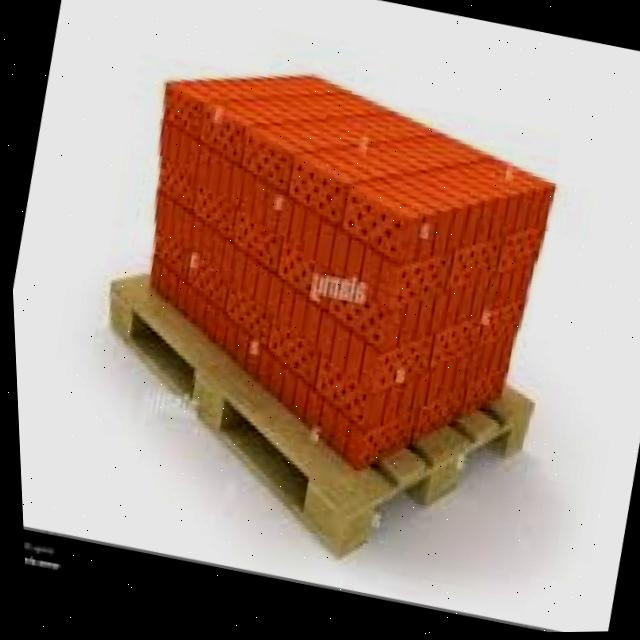bricks: (151, 79, 553, 465)
